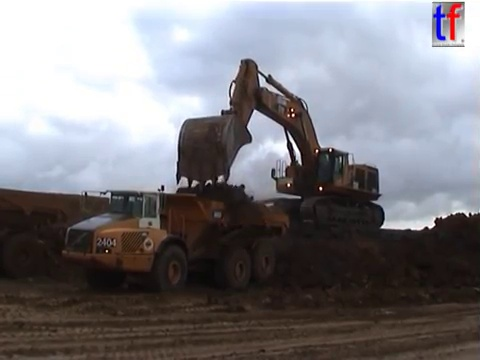excavator: (173, 56, 389, 232)
truck: (59, 182, 294, 296), (1, 183, 151, 283)
